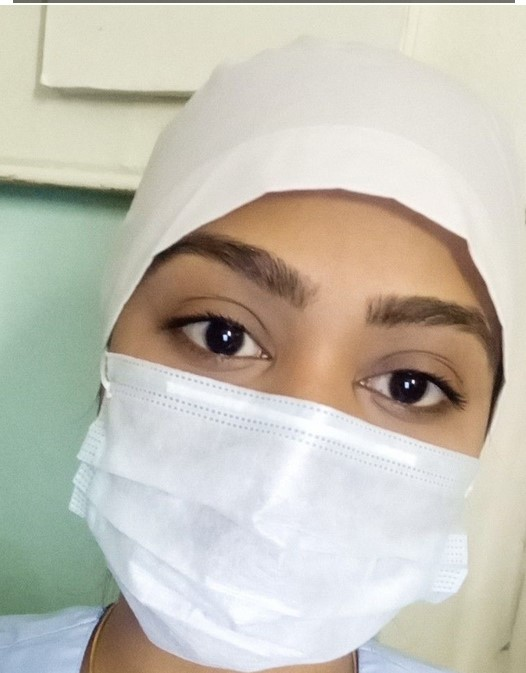face_with_mask: (68, 30, 520, 670)
